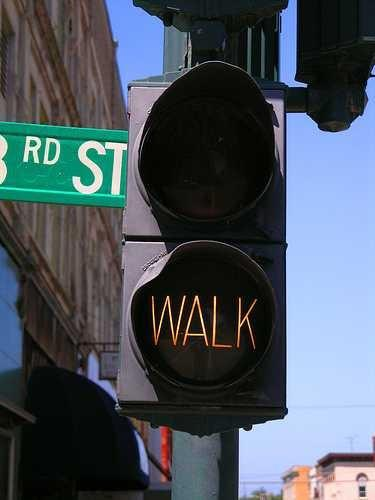green: (121, 77, 273, 394), (127, 238, 278, 397)
